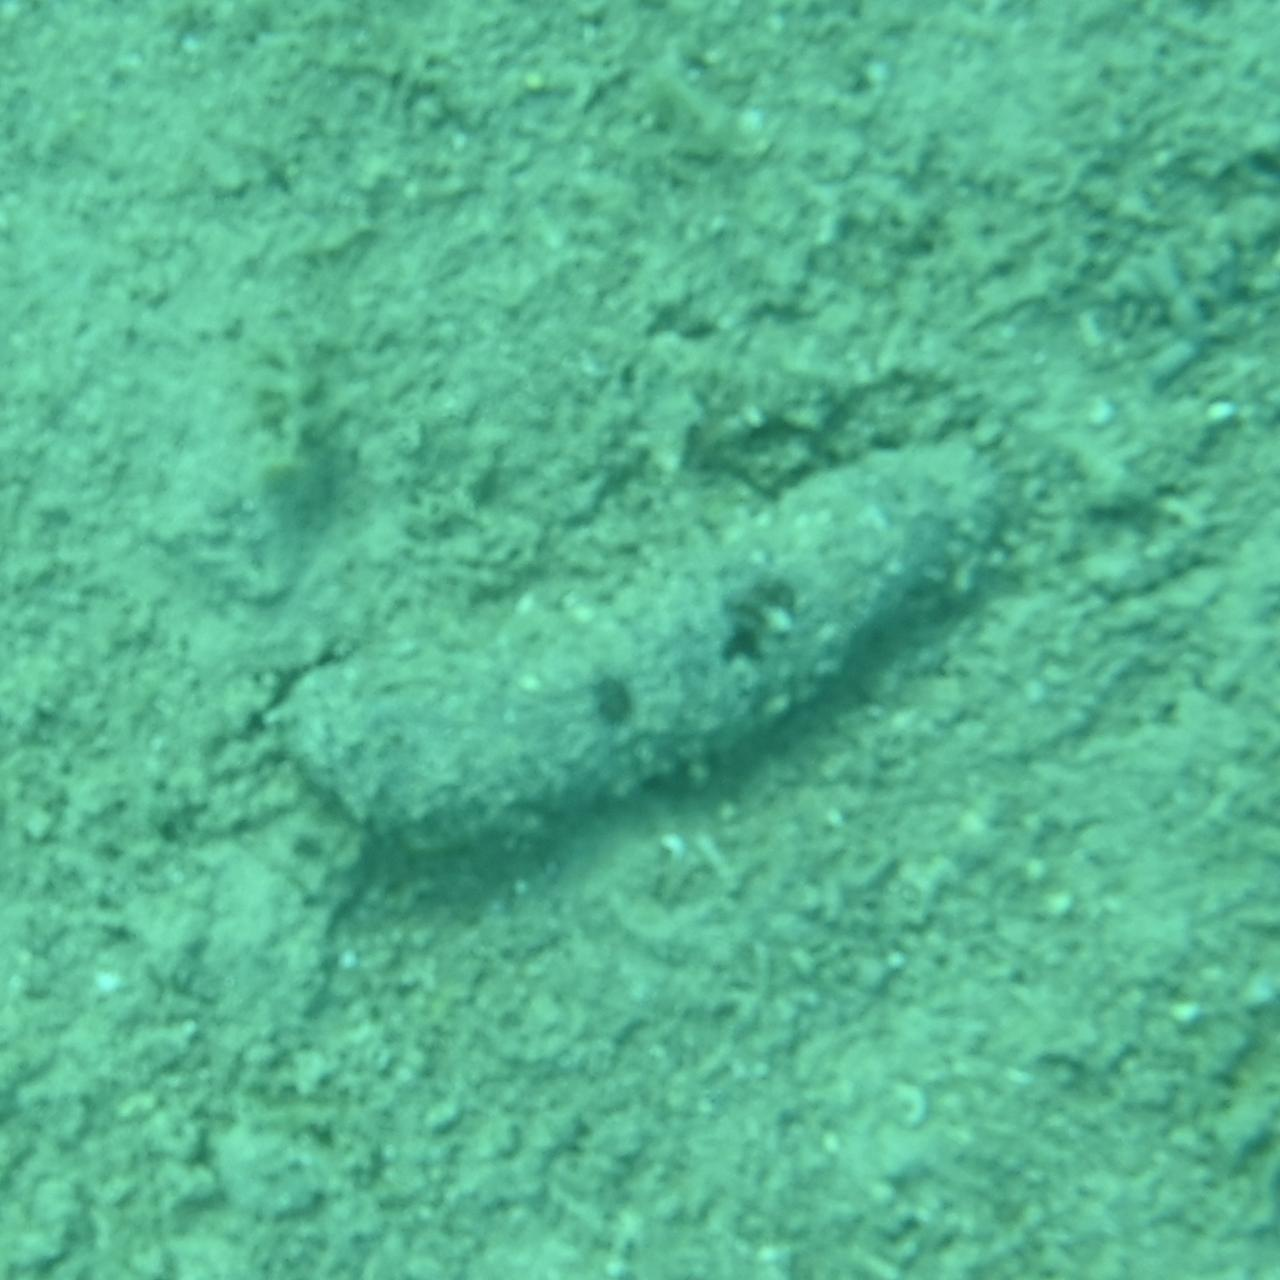Holothuria tubulosa: (262, 370, 1018, 910)
